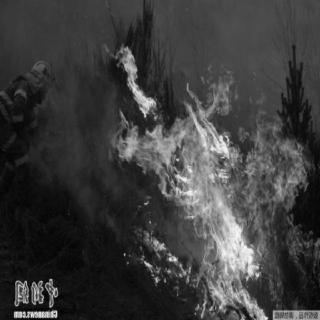Fire: (108, 38, 310, 315)
